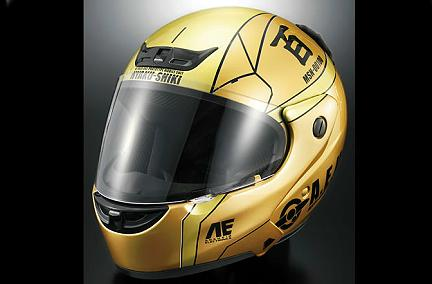helmet: (105, 16, 348, 254)
